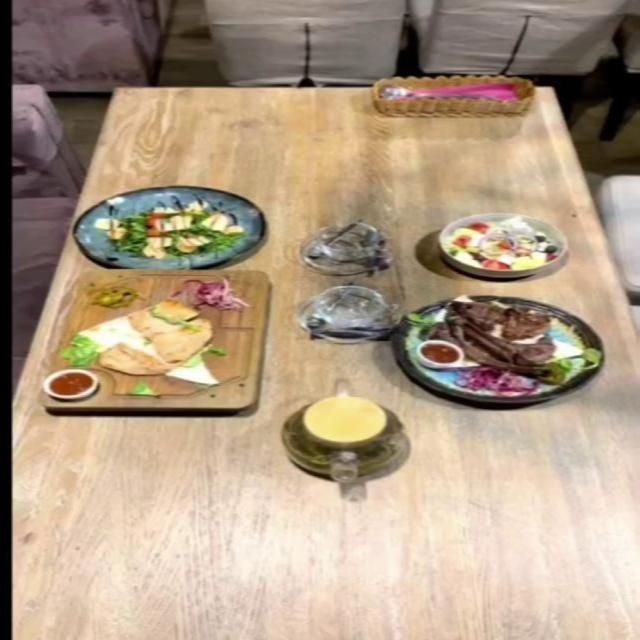meat: (35, 268, 277, 416), (390, 294, 606, 404)
salad: (72, 185, 264, 268), (438, 212, 570, 276)
tea: (280, 394, 409, 482)
